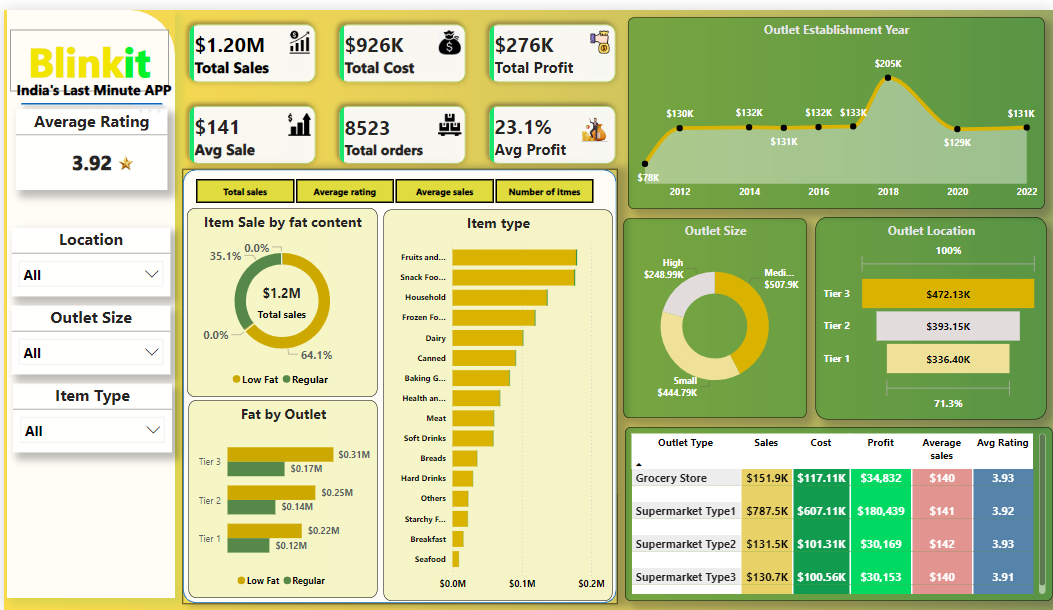

What the dashboard file says about the page in this screenshot:
{"tool":"powerbi","page":{"name":"Page 1","canvas":[1400,800],"ordinal":0},"visuals":[{"type":"shape","box":[4,0,224,784],"z":0},{"type":"textbox","box":[8,26,212,82],"z":1000},{"type":"textbox","box":[8,88,224,42],"z":2000},{"type":"cardVisual","fields":{"Data":["Sum(Blinkit_grocery.Sales)","Sum(Blinkit_grocery.Cost)","Sum(Blinkit_grocery.Profit)","Blinkit_grocery.Average sales","Blinkit_grocery.Count","Avg(Blinkit_grocery.Profit percentage)"]},"box":[230,2,600,220],"z":3000},{"type":"card","title":"Average Rating","fields":{"Values":["Avg(Blinkit_grocery.Rating)"]},"box":[16,132,202,108],"z":4000},{"type":"shape","box":[14,106,206,38],"z":5000},{"type":"image","box":[120,186,84,36],"z":6000},{"type":"shape","box":[238,212,580,580],"z":7000},{"type":"donutChart","title":"Item Sale by fat content","fields":{"Y":["Blinkit_grocery.Total sales","Blinkit_grocery.Average rating","Blinkit_grocery.Average sales","Blinkit_grocery.Number of itmes"],"Category":["Blinkit_grocery.Item Fat Content"]},"box":[244,264,254,252],"z":8000},{"type":"slicer","fields":{"Values":["Metrics.Metrics"]},"box":[230,218,580,46],"z":9000},{"type":"card","fields":{"Values":["Blinkit_grocery.Total sales"]},"box":[324,356,92,64],"z":10000},{"type":"clusteredBarChart","title":"Fat by Outlet","fields":{"Y":["Blinkit_grocery.Total sales"],"Category":["Blinkit_grocery.Outlet Location Type"],"Series":["Blinkit_grocery.Item Fat Content"]},"box":[246,520,252,264],"z":11000},{"type":"barChart","title":"Item type","fields":{"Y":["Blinkit_grocery.Total sales","Blinkit_grocery.Average rating","Blinkit_grocery.Average sales","Blinkit_grocery.Number of itmes"],"Category":["Blinkit_grocery.Item Type"]},"box":[505,265,305,521.7],"z":12000},{"type":"lineChart","title":"Outlet Establishment Year","fields":{"Category":["Blinkit_grocery.Outlet Establishment Year"],"Y":["Blinkit_grocery.Total sales"]},"box":[831.7,10,555,255],"z":13000},{"type":"donutChart","title":"Outlet Size","fields":{"Y":["Blinkit_grocery.Total sales"],"Category":["Blinkit_grocery.Outlet Size"]},"box":[826,278,244,266],"z":14000},{"type":"funnel","title":"Outlet Location","fields":{"Category":["Blinkit_grocery.Outlet Location Type"],"Y":["Sum(Blinkit_grocery.Sales)"]},"box":[1082,276,308,270],"z":14001},{"type":"pivotTable","fields":{"Rows":["Blinkit_grocery.Outlet Type"],"Values":["Sum(Blinkit_grocery.Sales)","Sum(Blinkit_grocery.Cost)","Sum(Blinkit_grocery.Profit)","Blinkit_grocery.Average sales","Blinkit_grocery.Average rating"]},"box":[828,556,570,232],"z":14002},{"type":"slicer","title":"Location","fields":{"Values":["Blinkit_grocery.Outlet Location Type"]},"box":[10,290,212,92],"z":14003},{"type":"slicer","title":"Outlet Size","fields":{"Values":["Blinkit_grocery.Outlet Size"]},"box":[10,394,212,92],"z":14004},{"type":"slicer","title":"Item Type","fields":{"Values":["Blinkit_grocery.Item Type"]},"box":[12,498,212,92],"z":14005}]}

Visuals, with their boxes in screenshot pixels (x1, y1, x2, y2), scaled from the page's 1400x800 canvas onto the 1053x610 screenshot:
shape: 3/0/171/598
textbox: 6/20/165/82
textbox: 6/67/174/99
cardVisual - Sum(Blinkit_grocery.Sales) x Sum(Blinkit_grocery.Cost): 173/2/624/169
"Average Rating" card: 12/101/164/183
shape: 11/81/165/110
image: 90/142/153/169
shape: 179/162/615/604
"Item Sale by fat content" donutChart: 184/201/375/393
slicer - Metrics.Metrics: 173/166/609/201
card - Blinkit_grocery.Total sales: 244/271/313/320
"Fat by Outlet" clusteredBarChart: 185/396/375/598
"Item type" barChart: 380/202/609/600
"Outlet Establishment Year" lineChart: 626/8/1043/202
"Outlet Size" donutChart: 621/212/805/415
"Outlet Location" funnel: 814/210/1045/416
pivotTable - Blinkit_grocery.Outlet Type x Sum(Blinkit_grocery.Sales): 623/424/1051/601
"Location" slicer: 8/221/167/291
"Outlet Size" slicer: 8/300/167/371
"Item Type" slicer: 9/380/168/450
